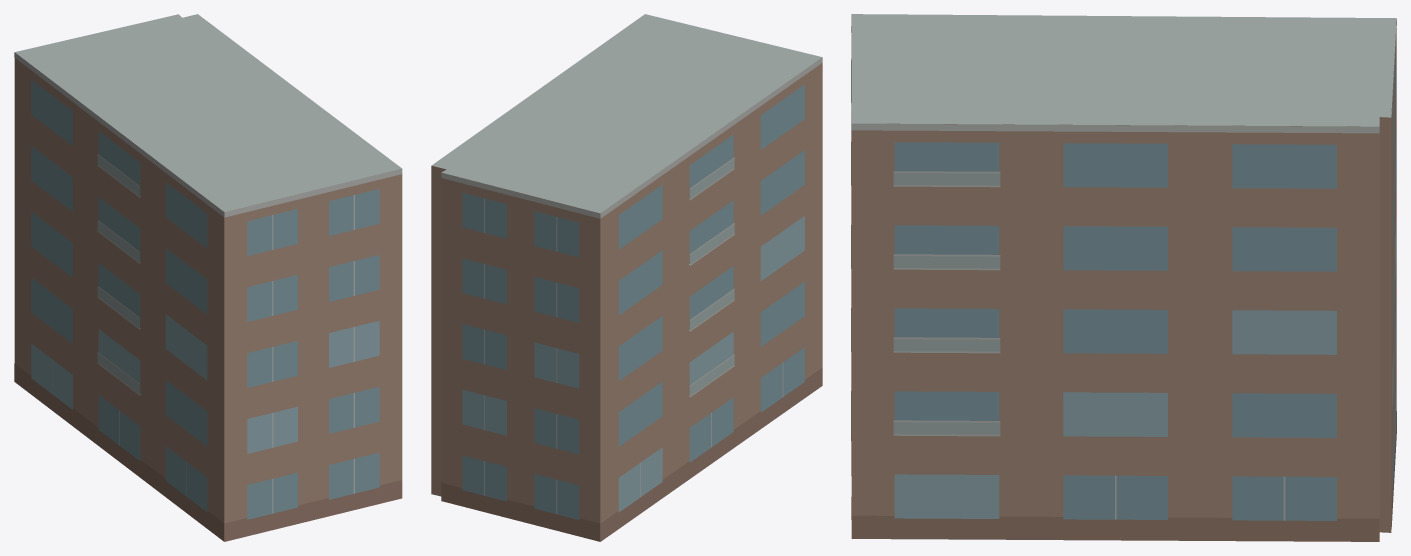
The model's file is survey-upis-32978072.glb.
3 renders of one model, left to right at view 1: azimuth 30°, elevation 25°; view 2: azimuth 150°, elevation 25°; view 3: azimuth 270°, elevation 25°, orthographic. The views are drawn at different scales.
Visible parts, largest first — view 1: survey-upis-32978072.tmp; view 2: survey-upis-32978072.tmp; view 3: survey-upis-32978072.tmp.
Boxes of the visible parts, box(x1,y1,x2,y2) form: survey-upis-32978072.tmp: box(14, 14, 402, 541); survey-upis-32978072.tmp: box(431, 14, 822, 541); survey-upis-32978072.tmp: box(851, 14, 1396, 541).
Size of the model in its own units: 8.66 by 14.88 by 17.72.
